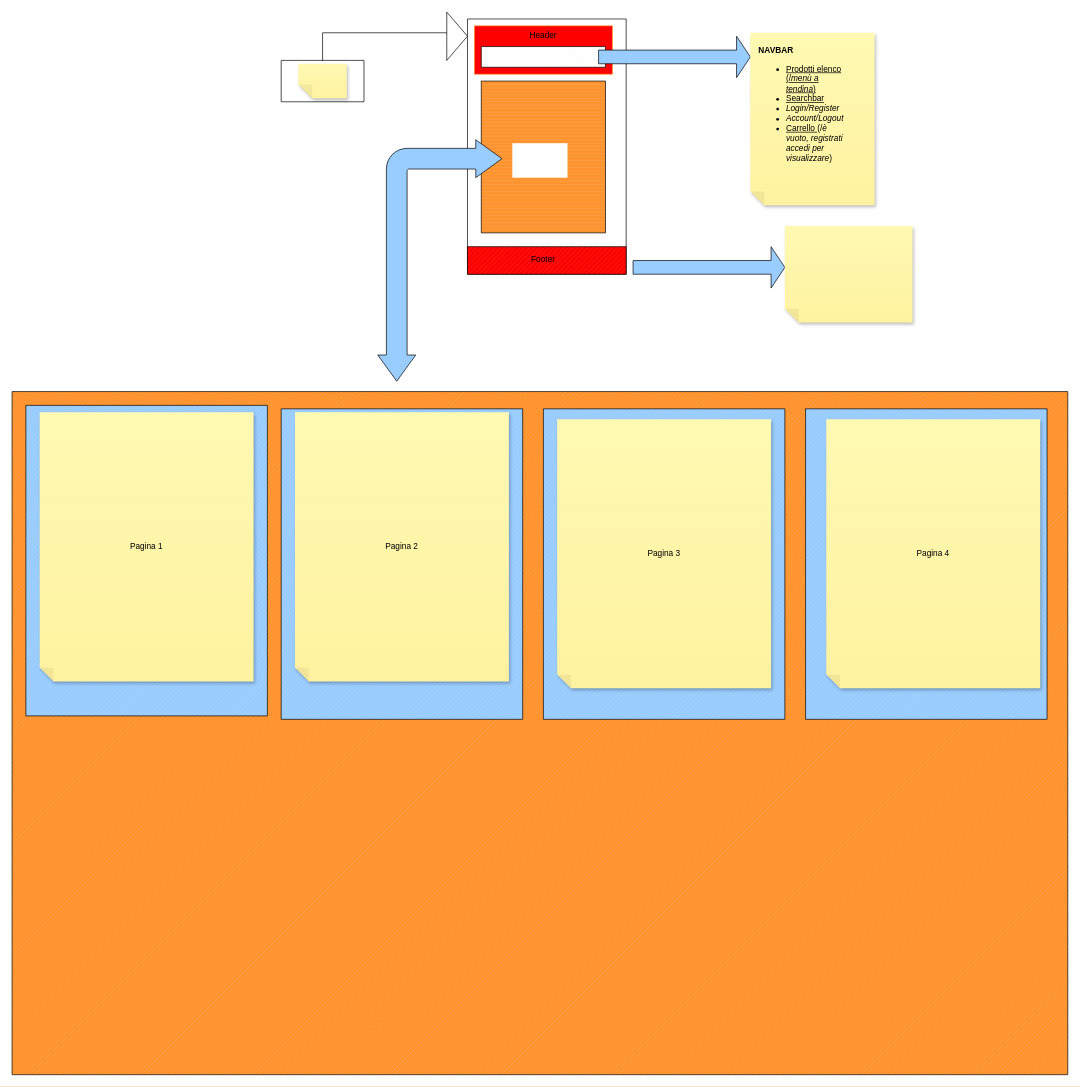
This 1080x1087 diagram has some shape labels left out. Each missing label, with the centre of its shape:
"MAIN" goes at point 323,82.
"Main Body + Components" goes at point 539,160.
"Navbar" goes at point 543,56.
"Social LInks Credits Contact us Refund Policies" goes at point 849,275.
